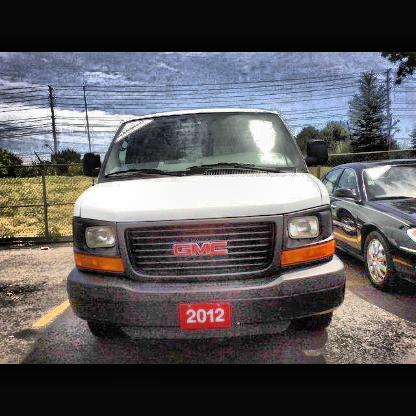GMC Savana Van 2012: (67, 108, 347, 339)
